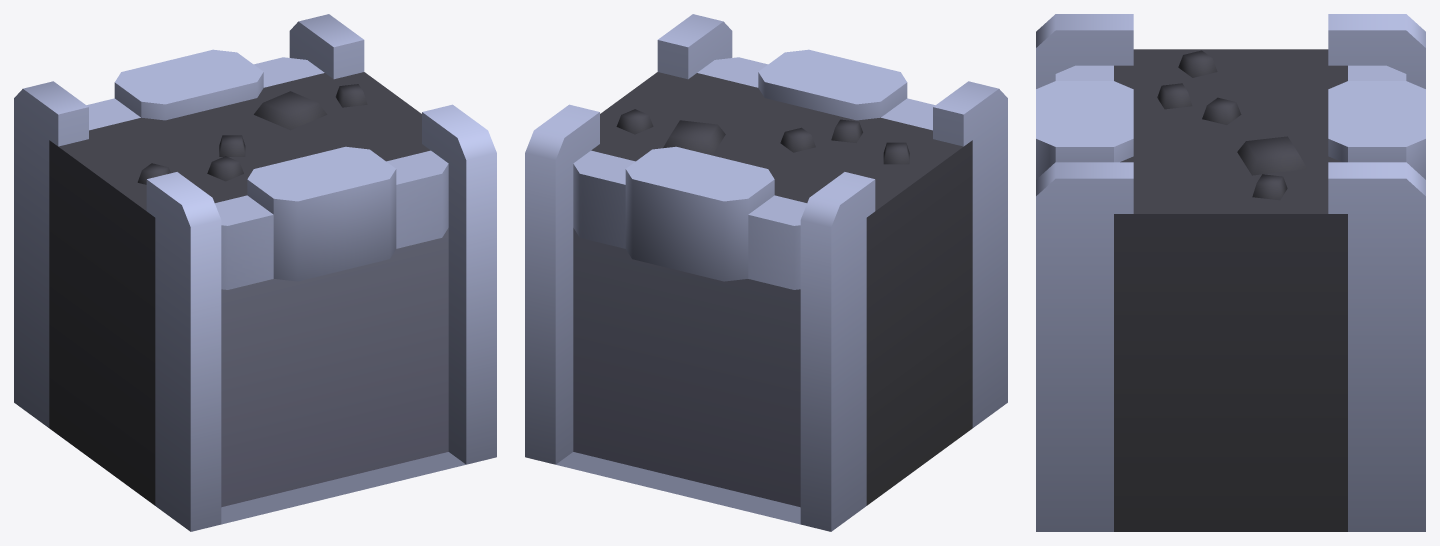
The model's file is wall-narrow.obj.
3 views of the same model, side by side, from view 1: azimuth 30°, elevation 25°; view 2: azimuth 150°, elevation 25°; view 3: azimuth 270°, elevation 25° (orthographic). The views are drawn at different scales.
Parts seen in each view (by area): view 1: wall-narrow; view 2: wall-narrow; view 3: wall-narrow.
Part boxes in pixels (box(x1,y1,x2,y2)): wall-narrow: box(14, 14, 496, 531); wall-narrow: box(525, 14, 1007, 531); wall-narrow: box(1036, 14, 1425, 531).
Size of the model in its own units: 1 by 1 by 1.
Materials: 1 (1 with a texture image).
